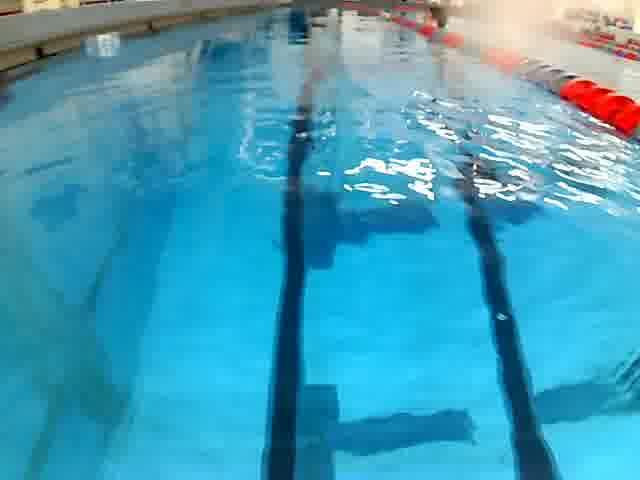Bottle: (76, 24, 129, 58)
